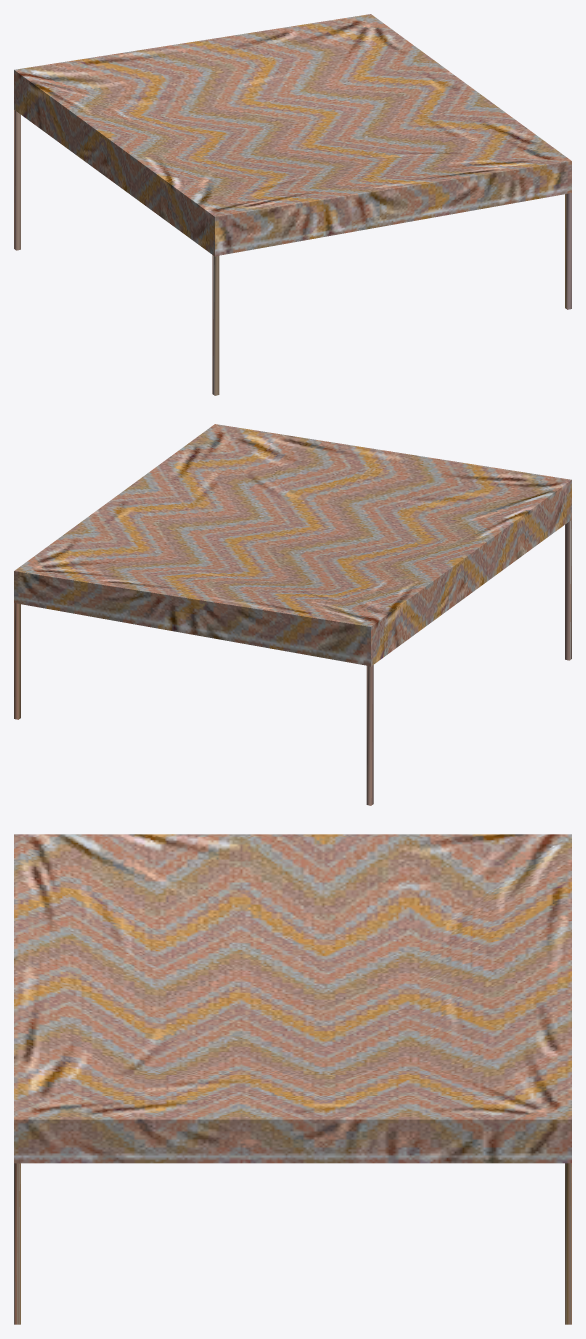
The model's file is Market_Canopy01.glb.
3 renders of one model, top to bottom at view 1: azimuth 30°, elevation 25°; view 2: azimuth 150°, elevation 25°; view 3: azimuth 270°, elevation 25°, orthographic. The views are drawn at different scales.
Parts seen in each view (by area): view 1: MARKET_CANOPY01; view 2: MARKET_CANOPY01; view 3: MARKET_CANOPY01.
Part boxes in pixels (left/top/right/bottom): MARKET_CANOPY01: left=14, top=14, right=571, bottom=395; MARKET_CANOPY01: left=14, top=424, right=571, bottom=805; MARKET_CANOPY01: left=14, top=834, right=571, bottom=1324.
Size of the model in its own units: 8.11 by 3.89 by 7.91.
1 material, 1 textured.
